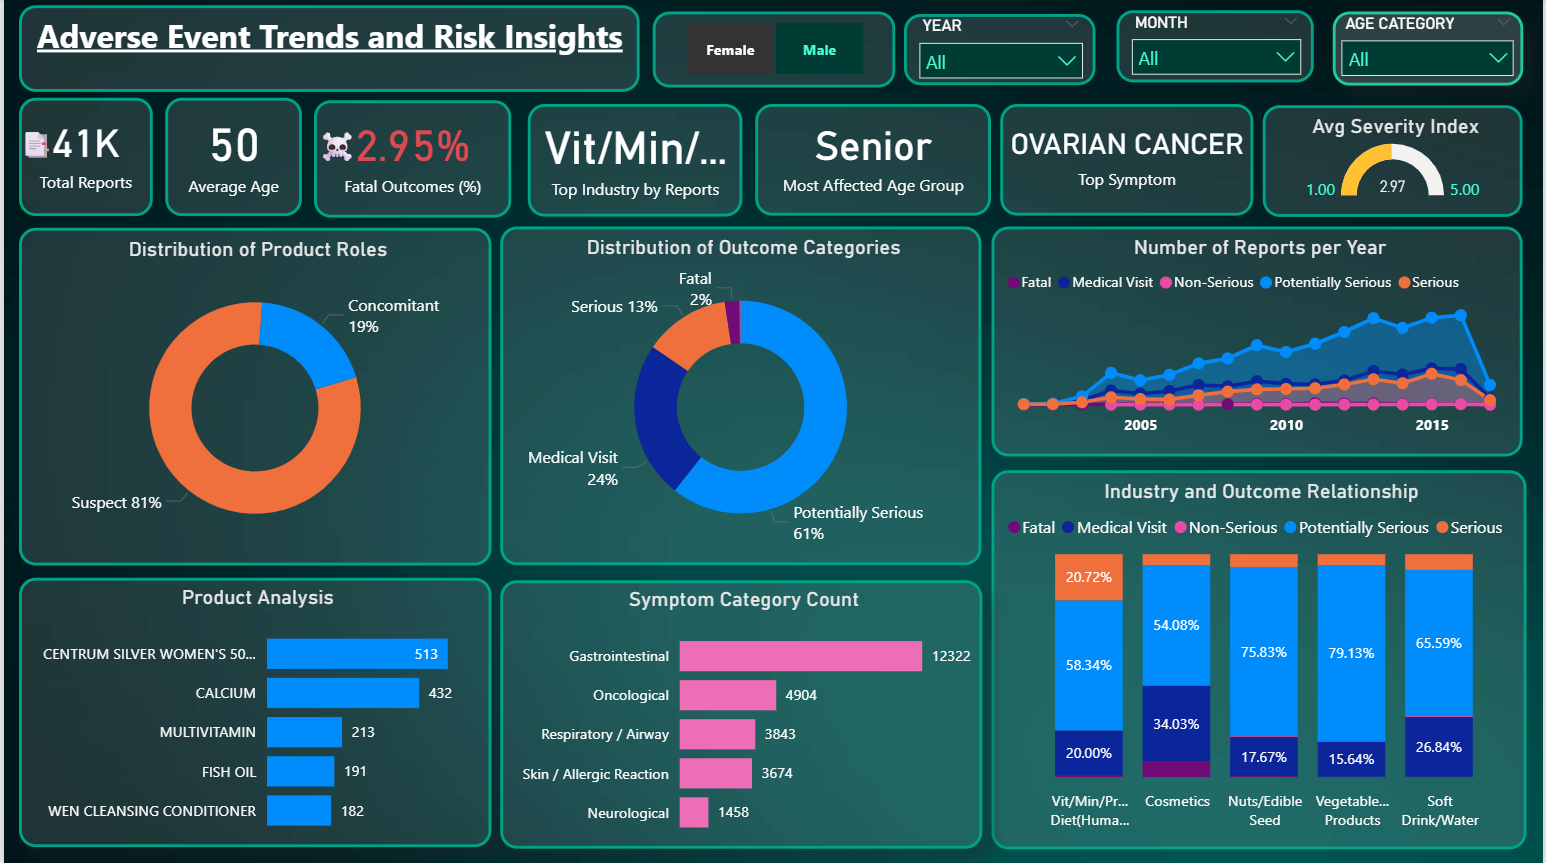

The page's visual inventory and layout, read from the dashboard file:
{"tool":"powerbi","page":{"name":"Dashboard","canvas":[1280,720],"ordinal":16},"visuals":[{"type":"textbox","box":[12.3,4.9,516.1,71.6],"z":0},{"type":"clusteredBarChart","title":"Product Analysis","fields":{"Category":["CAERS_ASCII_2004_2017Q2.product_name"],"Y":["Count(CAERS_ASCII_2004_2017Q2.report_id)"]},"box":[12.3,481.6,392.5,223.7],"z":1000},{"type":"donutChart","title":"Distribution of Outcome Categories","fields":{"Category":["CAERS_ASCII_2004_2017Q2.outcome_category"],"Y":["Count(CAERS_ASCII_2004_2017Q2.report_id)"]},"box":[412.8,189.5,400,281.4],"z":2000},{"type":"card","fields":{"Values":["CAERS_ASCII_2004_2017Q2.Total_Reports"]},"box":[12.3,82.6,110.9,98.6],"z":3000},{"type":"card","fields":{"Values":["CAERS_ASCII_2004_2017Q2.Average_Age"]},"box":[134.3,82.6,113.4,98.6],"z":4000},{"type":"actionButton","box":[0,0,100,40],"z":5000},{"type":"card","fields":{"Values":["CAERS_ASCII_2004_2017Q2.Top Symptom"]},"box":[828,87.5,210.7,92.4],"z":6000},{"type":"slicer","fields":{"Values":["CAERS_ASCII_2004_2017Q2.gender"]},"box":[539.5,9.9,201.2,63],"z":7000},{"type":"slicer","fields":{"Values":["CAERS_ASCII_2004_2017Q2.age_category"]},"box":[1104.7,10.5,158.1,61.6],"z":8000},{"type":"slicer","fields":{"Values":["Calendar.Month"]},"box":[925.4,9.9,163.9,60.4],"z":9000},{"type":"hundredPercentStackedColumnChart","title":"Industry and Outcome Relationship","fields":{"Category":["CAERS_ASCII_2004_2017Q2.industry_name"],"Series":["CAERS_ASCII_2004_2017Q2.outcome_category"],"Y":["Count(CAERS_ASCII_2004_2017Q2.report_id)"]},"box":[821,391.4,444.4,314.8],"z":10000},{"type":"clusteredBarChart","title":"Symptom Category Count","fields":{"Category":["CAERS_ASCII_2004_2017Q2.symptom_category"],"Y":["CAERS_ASCII_2004_2017Q2.SymptomCategory_Count"]},"box":[412.8,483,400.5,223],"z":11000},{"type":"card","fields":{"Values":["CAERS_ASCII_2004_2017Q2.Fatal Outcomes (%)"]},"box":[257.5,83.8,163.9,97.3],"z":12000},{"type":"card","fields":{"Values":["CAERS_ASCII_2004_2017Q2.Most Affected Age Group"]},"box":[624.7,87.5,195.9,92.4],"z":13000},{"type":"card","fields":{"Values":["CAERS_ASCII_2004_2017Q2.Top Industry by Reports"]},"box":[435,87.5,178.7,93.6],"z":14000},{"type":"gauge","fields":{"Y":["CAERS_ASCII_2004_2017Q2.Avg_Severity_Index"]},"box":[1046.5,88.4,216.3,93],"z":15000},{"type":"slicer","fields":{"Values":["Calendar.Year"]},"box":[747.9,12.3,159,59.1],"z":16000},{"type":"textbox","box":[258,105.7,65.9,52.1],"z":17000},{"type":"textbox","box":[12.3,105.7,50.8,46.7],"z":18000},{"type":"donutChart","title":"Distribution of Product Roles","fields":{"Y":["Count(CAERS_ASCII_2004_2017Q2.report_id)"],"Category":["CAERS_ASCII_2004_2017Q2.product_role"]},"box":[12.6,190.1,392.8,280.9],"z":19000},{"type":"areaChart","title":"Number of Reports per Year","fields":{"Category":["CAERS_ASCII_2004_2017Q2.event_start_date.Variation.Date Hierarchy.Year"],"Y":["Count(CAERS_ASCII_2004_2017Q2.report_id)"],"Series":["CAERS_ASCII_2004_2017Q2.outcome_category"]},"box":[820.8,189,441.7,191.3],"z":20000}]}

Visuals, with their boxes in screenshot pixels (x1, y1, x2, y2), scaled from the page's 1280x720 canvas onto the 1546x863 screenshot:
textbox: box(15, 6, 638, 92)
"Product Analysis" clusteredBarChart: box(15, 577, 489, 845)
"Distribution of Outcome Categories" donutChart: box(499, 227, 982, 564)
card - CAERS_ASCII_2004_2017Q2.Total_Reports: box(15, 99, 149, 217)
card - CAERS_ASCII_2004_2017Q2.Average_Age: box(162, 99, 299, 217)
actionButton: box(0, 0, 121, 48)
card - CAERS_ASCII_2004_2017Q2.Top Symptom: box(1000, 105, 1255, 216)
slicer - CAERS_ASCII_2004_2017Q2.gender: box(652, 12, 895, 87)
slicer - CAERS_ASCII_2004_2017Q2.age_category: box(1334, 13, 1525, 86)
slicer - Calendar.Month: box(1118, 12, 1316, 84)
"Industry and Outcome Relationship" hundredPercentStackedColumnChart: box(992, 469, 1528, 846)
"Symptom Category Count" clusteredBarChart: box(499, 579, 982, 846)
card - CAERS_ASCII_2004_2017Q2.Fatal Outcomes (%): box(311, 100, 509, 217)
card - CAERS_ASCII_2004_2017Q2.Most Affected Age Group: box(755, 105, 991, 216)
card - CAERS_ASCII_2004_2017Q2.Top Industry by Reports: box(525, 105, 741, 217)
gauge - CAERS_ASCII_2004_2017Q2.Avg_Severity_Index: box(1264, 106, 1525, 217)
slicer - Calendar.Year: box(903, 15, 1095, 86)
textbox: box(312, 127, 391, 189)
textbox: box(15, 127, 76, 183)
"Distribution of Product Roles" donutChart: box(15, 228, 490, 565)
"Number of Reports per Year" areaChart: box(991, 227, 1525, 456)
